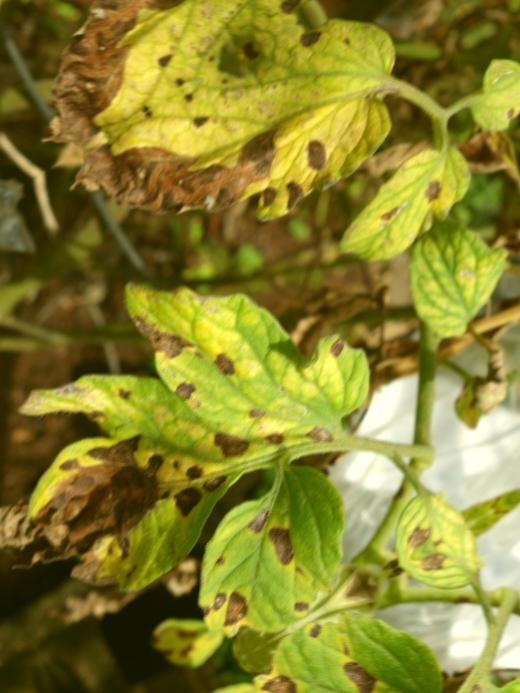Tomato leaf bacterial spot: (42, 0, 460, 309), (109, 200, 398, 511), (154, 444, 385, 659), (319, 127, 493, 279), (386, 201, 520, 351)
